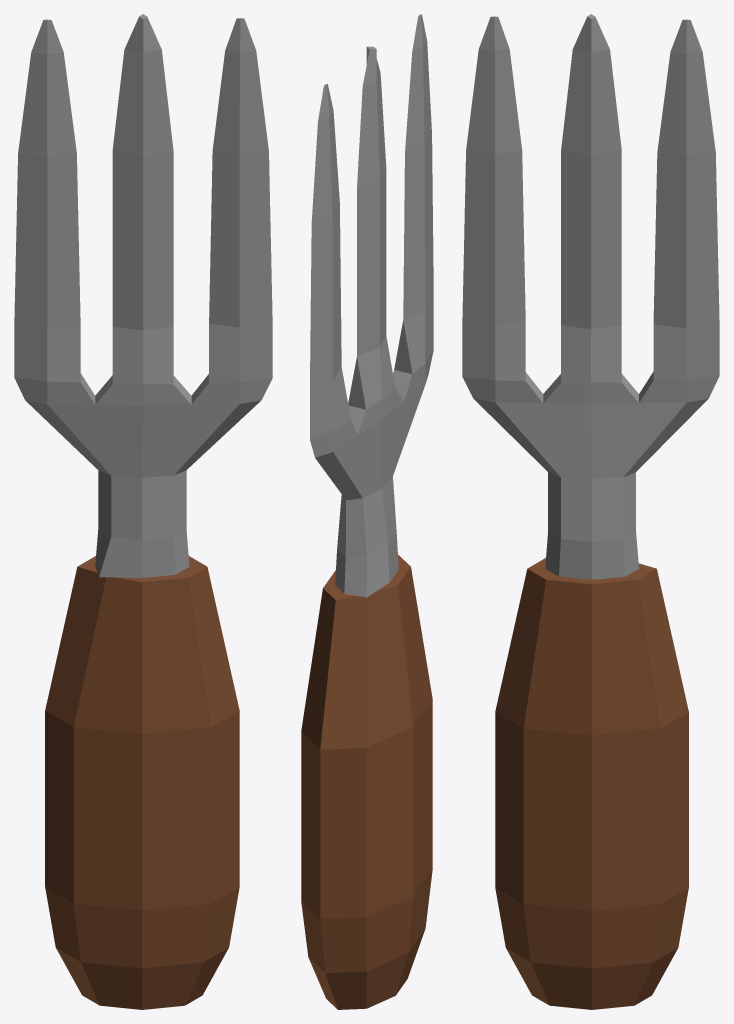
File: gardeningfork01.gltf
3 renders of one model, left to right at view 1: azimuth 90°, elevation 25°; view 2: azimuth 150°, elevation 25°; view 3: azimuth 270°, elevation 25°, orthographic. The views are drawn at different scales.
Parts seen in each view (by area): view 1: Cylinder; view 2: Cylinder; view 3: Cylinder.
Part boxes in pixels (x1,y1,x2,y2): Cylinder: (14,14,272,1009); Cylinder: (301,14,433,1009); Cylinder: (462,14,719,1009).
Bounding box in the file's own units: 0.0265 × 0.2567 × 0.0613.
1 material, 1 textured.
